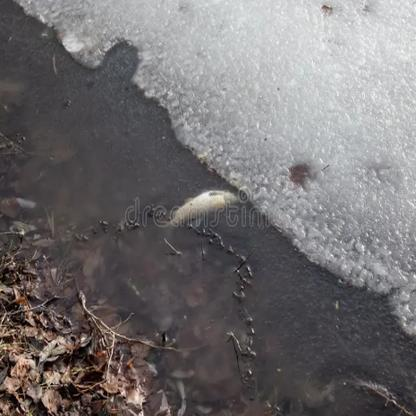deceased fish: (160, 187, 238, 229)
